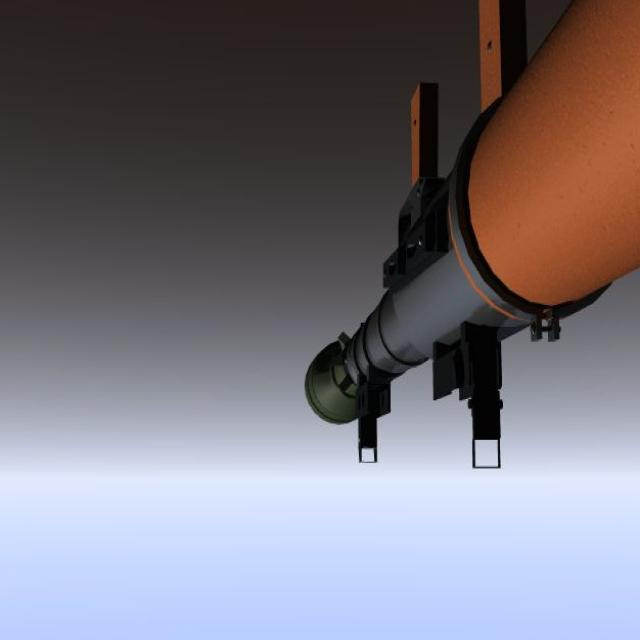Gun: (296, 0, 640, 492)
